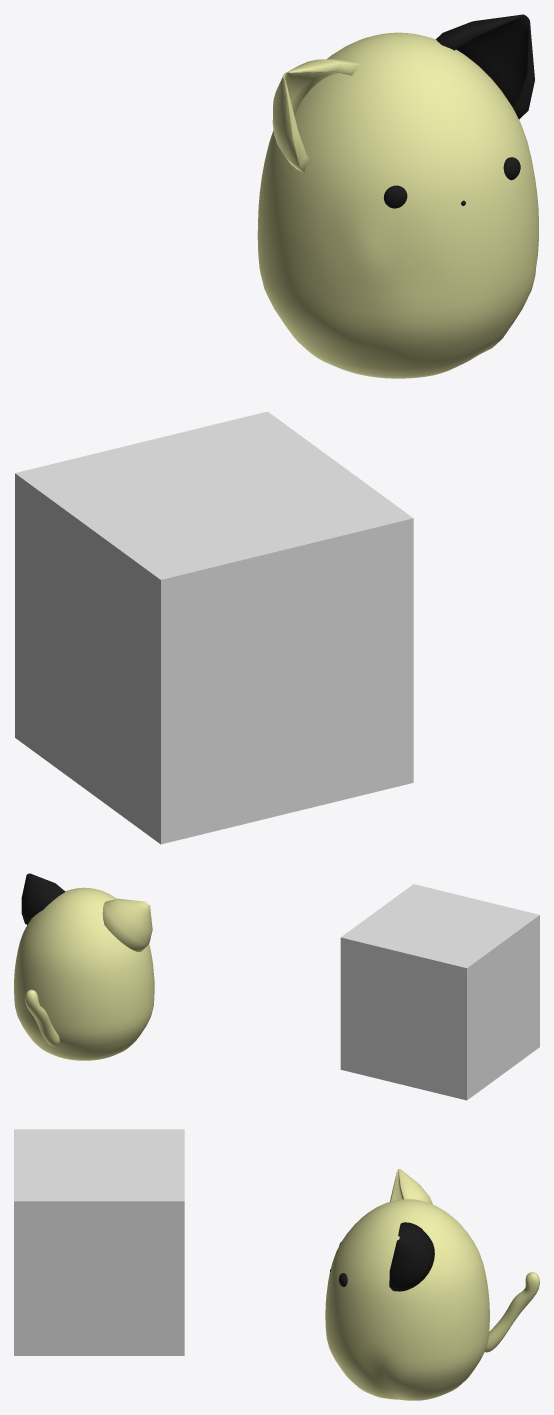
File: 0013_neko.fbx
3 renders of one model, top to bottom at view 1: azimuth 30°, elevation 25°; view 2: azimuth 150°, elevation 25°; view 3: azimuth 270°, elevation 25°, orthographic. The views are drawn at different scales.
Parts seen in each view (by area): view 1: Cube.001, Sphere, Circle; view 2: Cube.001, Sphere, Circle, Cube; view 3: Cube.001, Sphere, Circle, Cube.
Part boxes in pixels (x1,y1,x2,y2): Cube.001: [15, 411, 413, 844]; Sphere: [257, 32, 538, 378]; Circle: [272, 14, 534, 172]; Cube.001: [340, 884, 539, 1100]; Sphere: [14, 887, 154, 1060]; Circle: [21, 873, 152, 952]; Cube: [25, 989, 59, 1046]; Cube.001: [14, 1129, 184, 1355]; Sphere: [325, 1199, 489, 1400]; Circle: [389, 1169, 434, 1291]; Cube: [485, 1272, 539, 1352].
Bounding box in the file's own units: 554 × 317 × 617.
